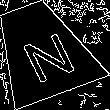N_NW: (9, 19, 74, 81)
